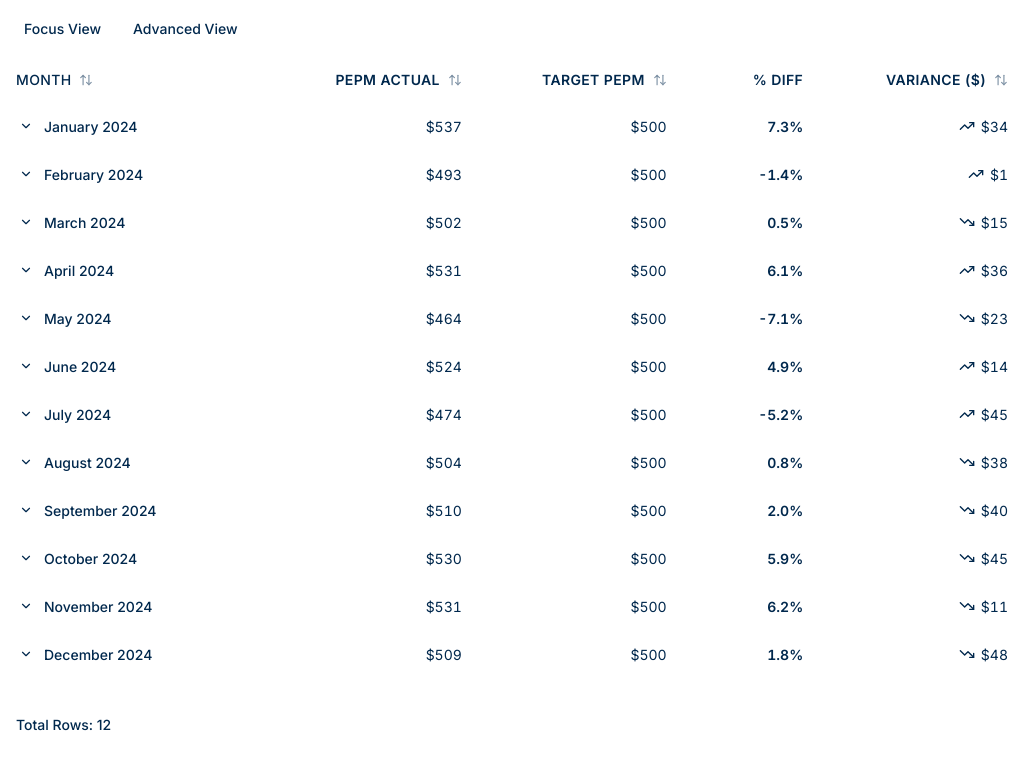
Scenario: ReportingGrid › Row Expansion › expands rows with line items
Click the button named "expand row" next to "January 2024".
click(26, 126)  # box [16,116,36,136]
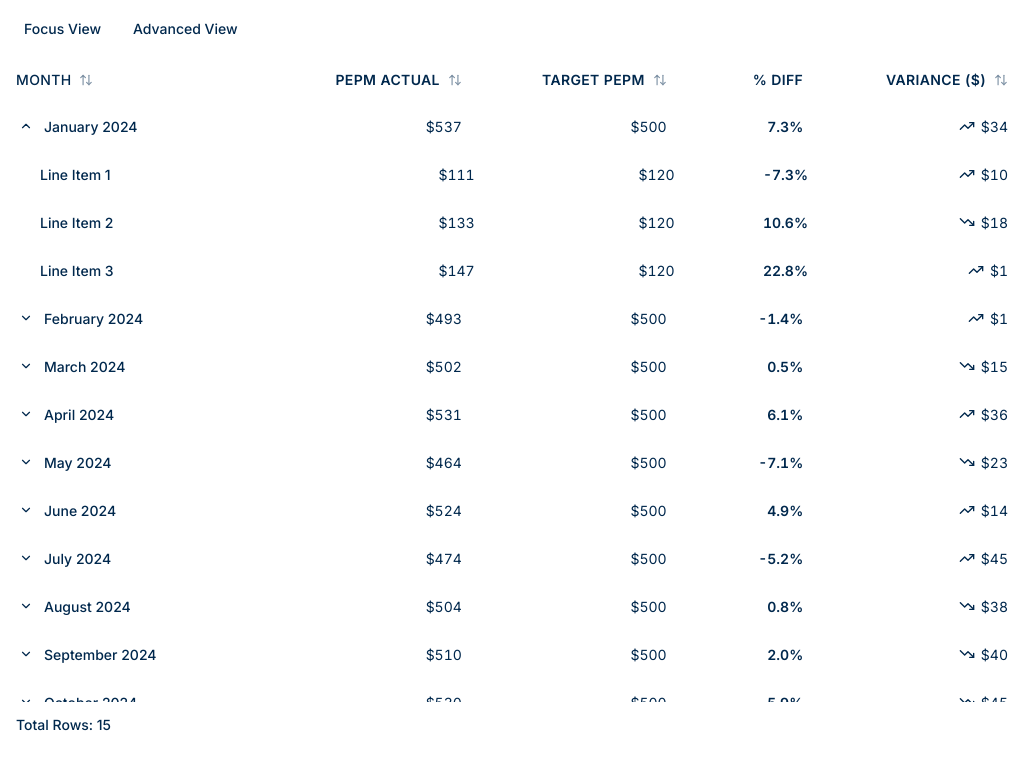
Expected: the button named "collapse row" is shown, [16,116,36,136]
Expected: the text "Line Item 1" is shown, [40,166,111,182]
